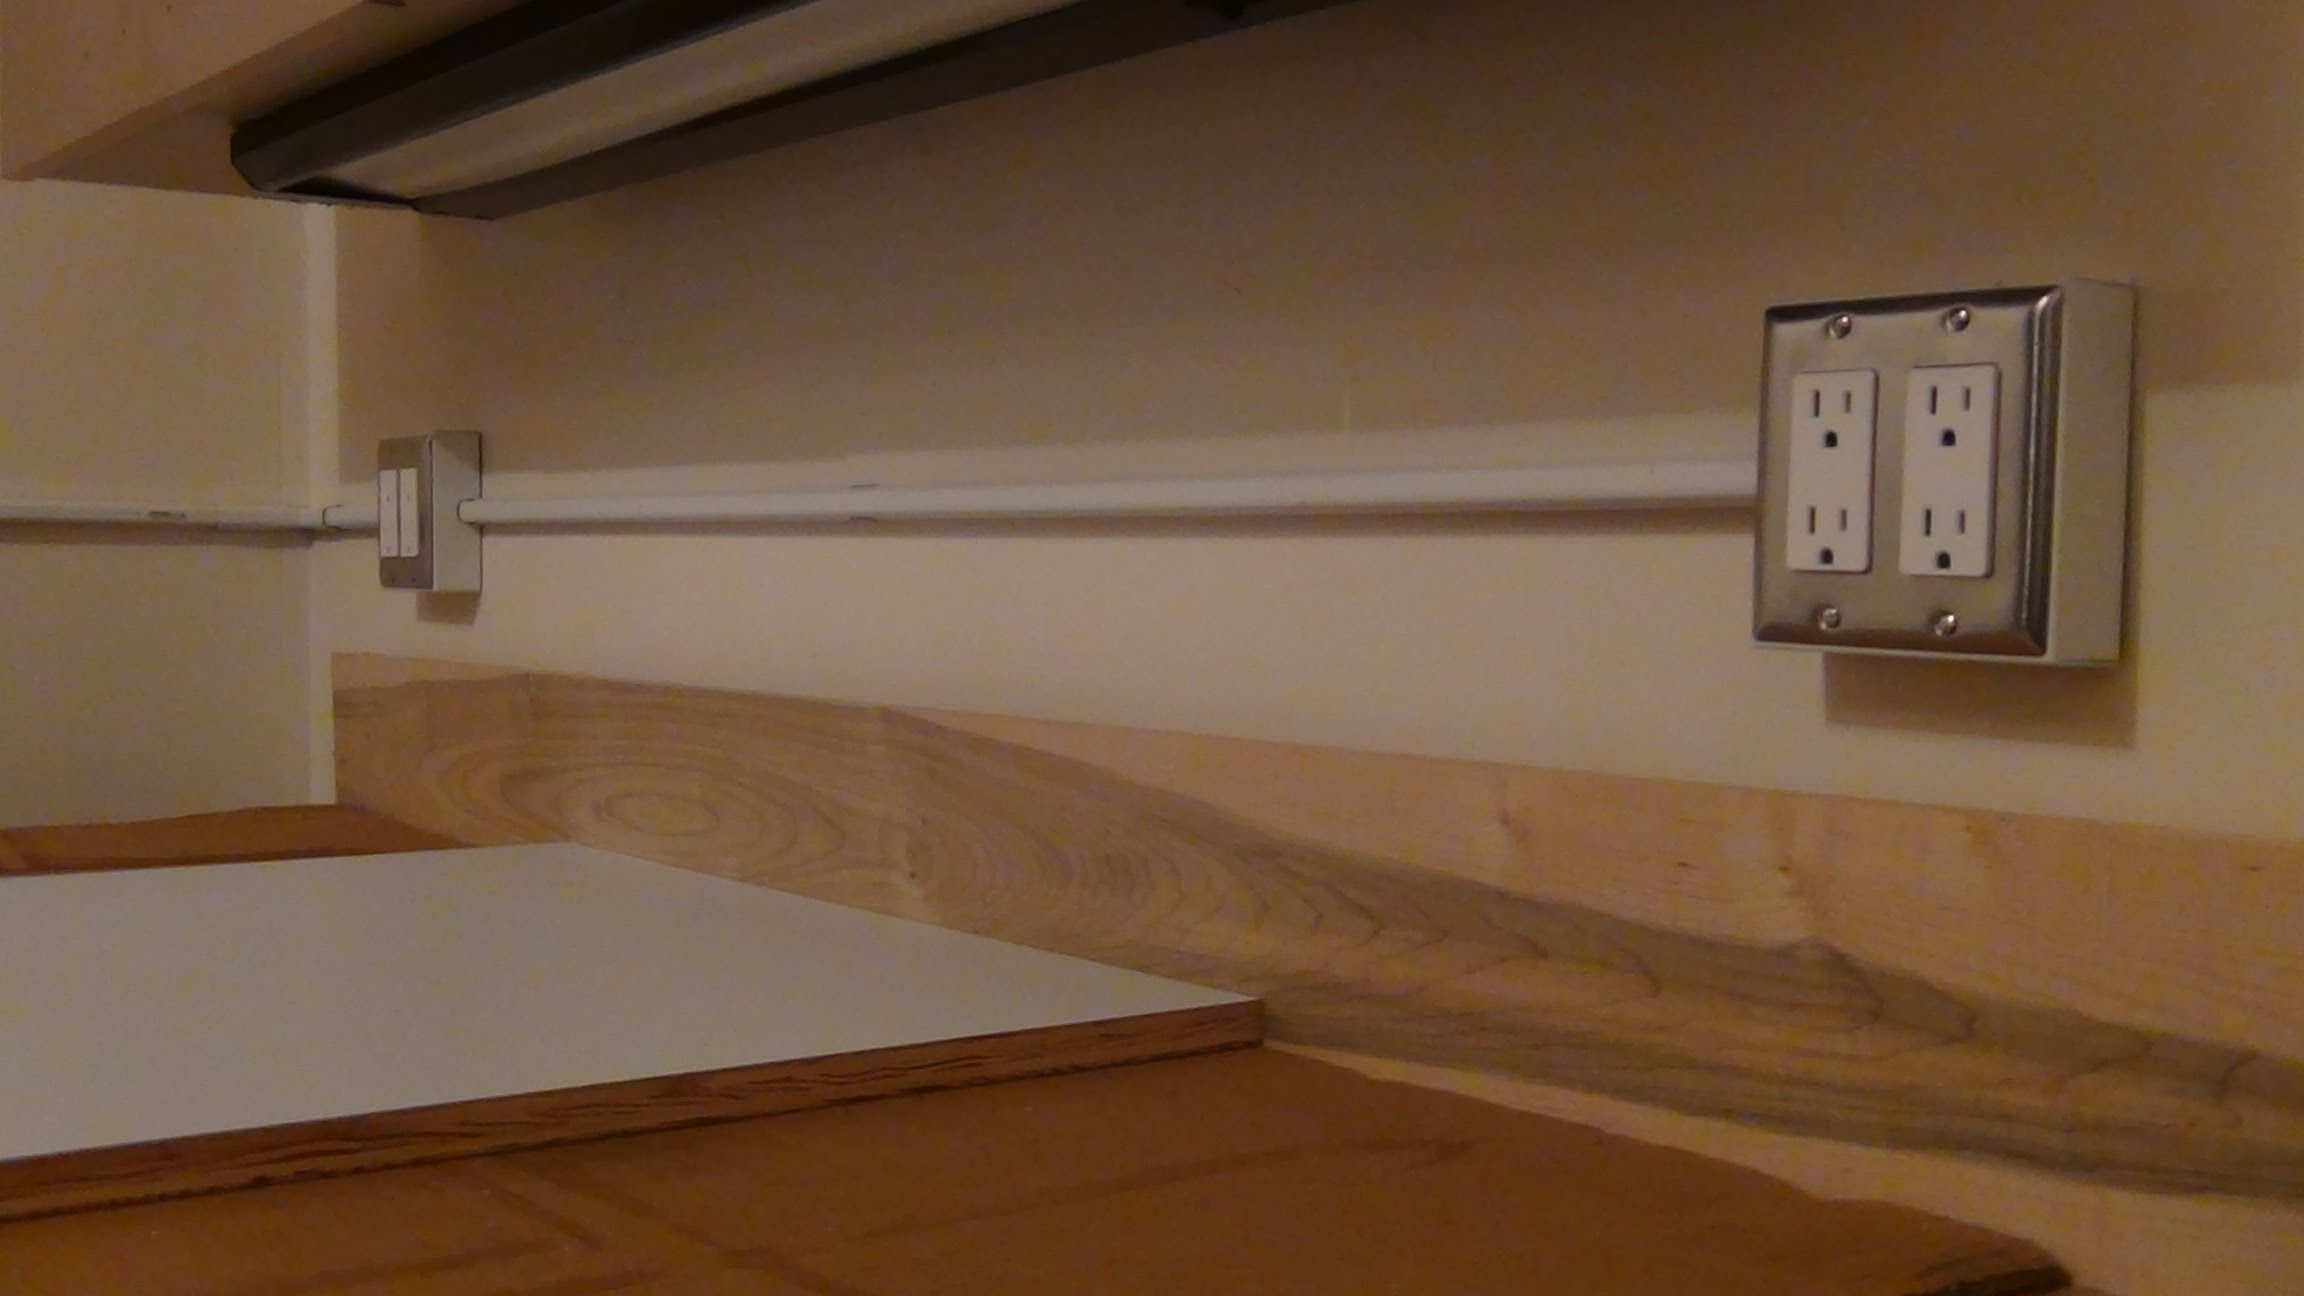outlet: (1923, 378, 1983, 449), (1802, 381, 1859, 453), (1916, 502, 1973, 573), (1801, 500, 1855, 568)
